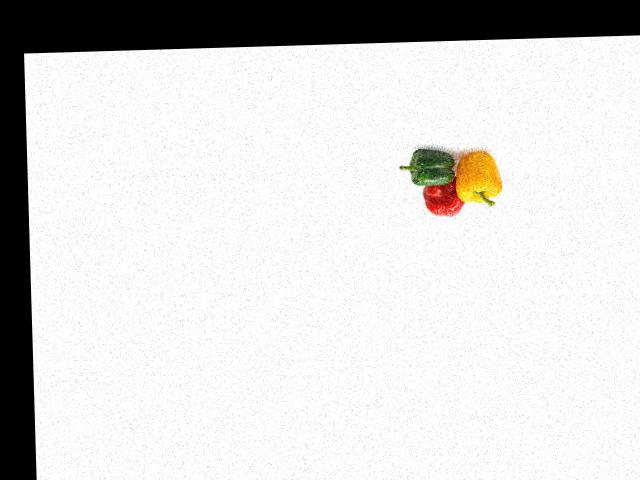bell_pepper: (403, 147, 465, 191)
